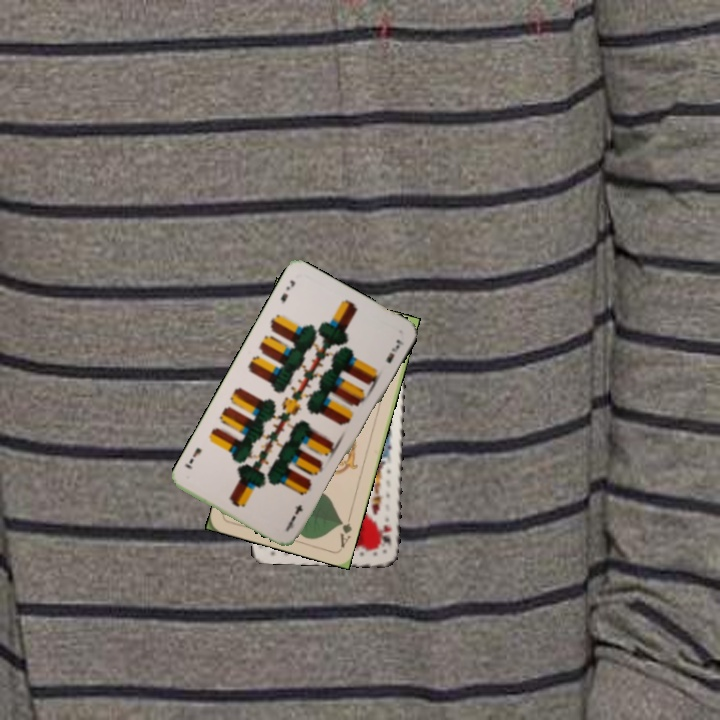E7: (283, 501, 306, 532), (276, 276, 298, 307)
GA: (336, 510, 354, 550)
HK: (376, 520, 394, 548)
